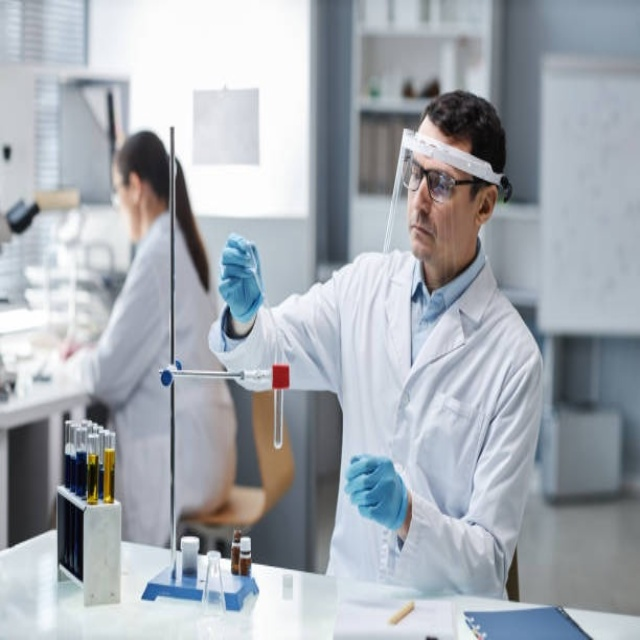Gafas: (404, 158, 482, 205)
Guantes: (345, 453, 408, 531), (218, 234, 265, 325)
Sin_mascara: (407, 218, 445, 260)
